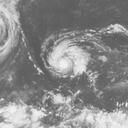cyclone: (39, 29, 94, 79)
